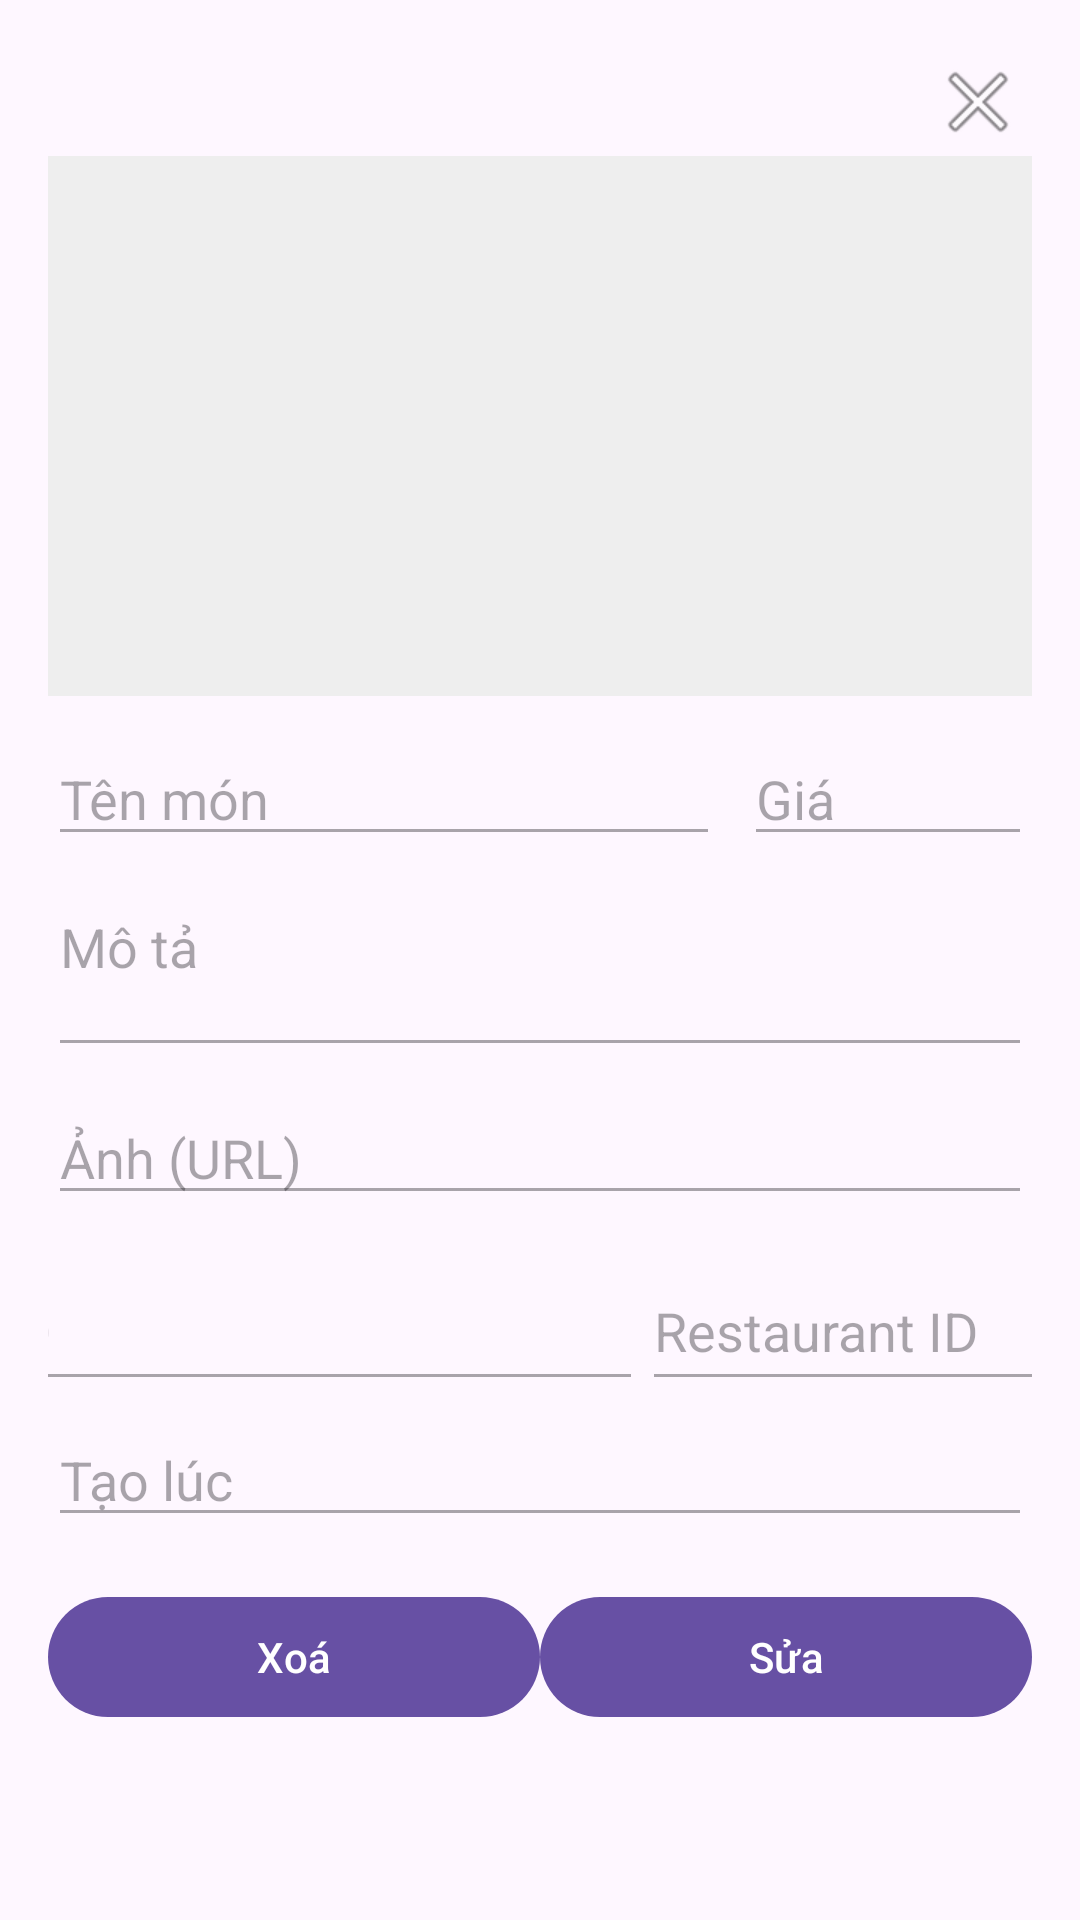

Where icons sit on this 1080x1920 app screen, as (x1, y1, x2, y2):
close clear cancel: (948, 72, 1008, 132)
